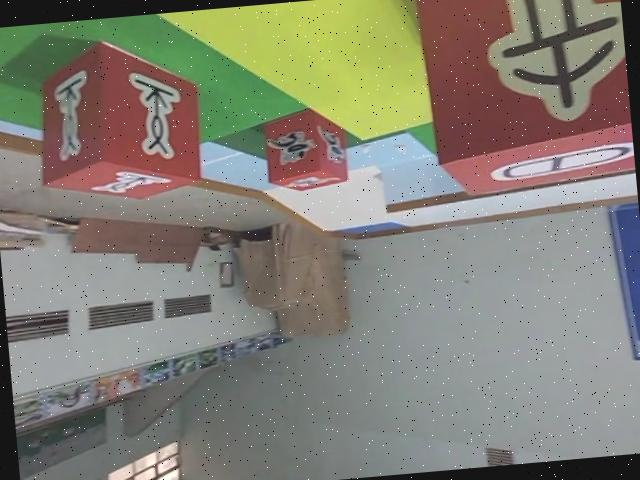R1: (264, 105, 347, 193)
R2 Fake: (413, 0, 637, 208)
R2 Real: (30, 36, 209, 210)
